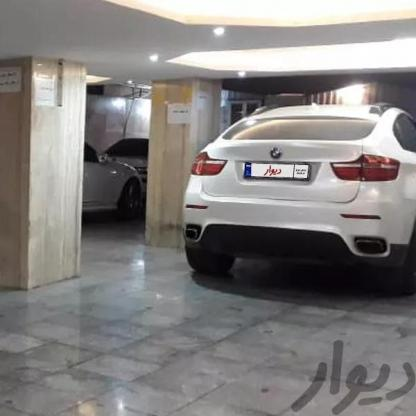Car: (169, 93, 416, 322), (0, 125, 160, 248)
